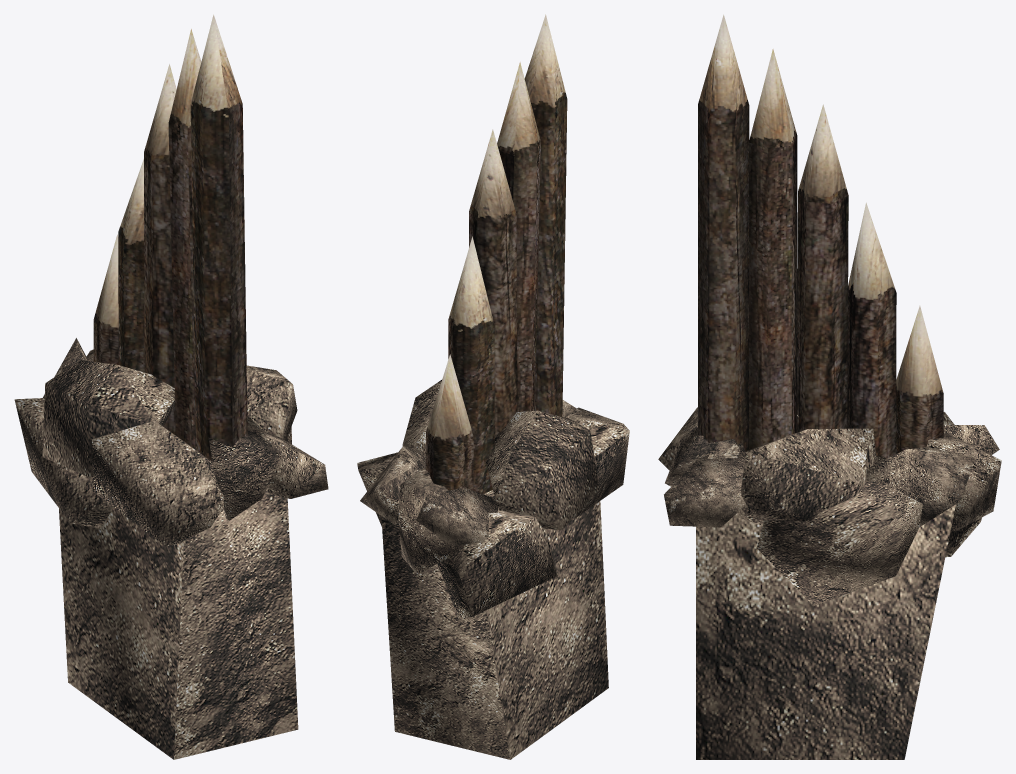
Rendered from palisade_rocks_end.dae.
3 views of the same model, side by side, from view 1: azimuth 30°, elevation 25°; view 2: azimuth 150°, elevation 25°; view 3: azimuth 270°, elevation 25° (orthographic). The views are drawn at different scales.
Parts seen in each view (by area): view 1: End; view 2: End; view 3: End.
Part boxes in pixels (<box>): End: <box>14,14,328,759</box>; End: <box>357,14,629,759</box>; End: <box>658,14,1001,759</box>.
Bounding box in the file's own units: 3.27 × 4 × 9.15.
